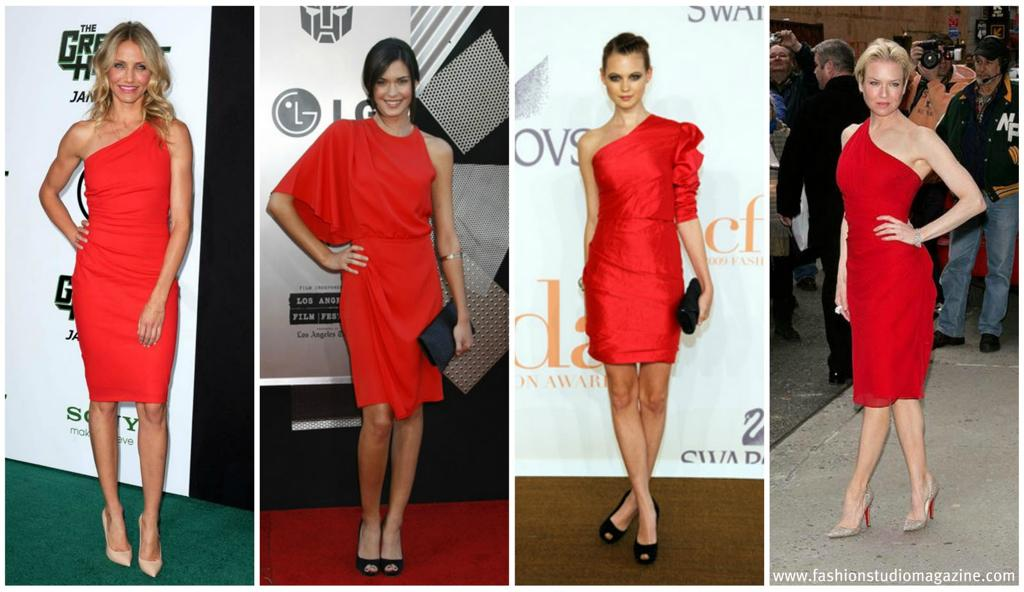face: (107, 42, 150, 103), (604, 55, 645, 108), (372, 63, 411, 115), (862, 66, 903, 115), (974, 51, 1001, 84), (931, 44, 952, 75), (814, 58, 834, 88), (769, 46, 789, 70)
